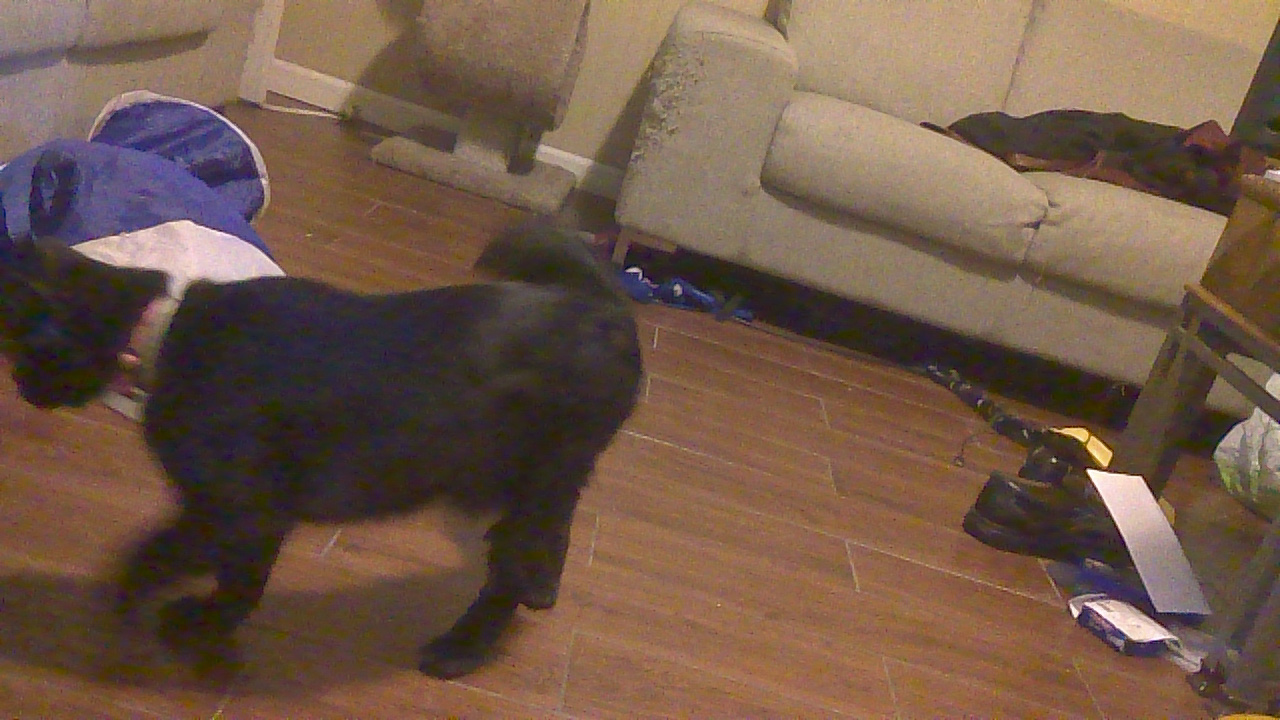cat: (1, 228, 650, 675)
